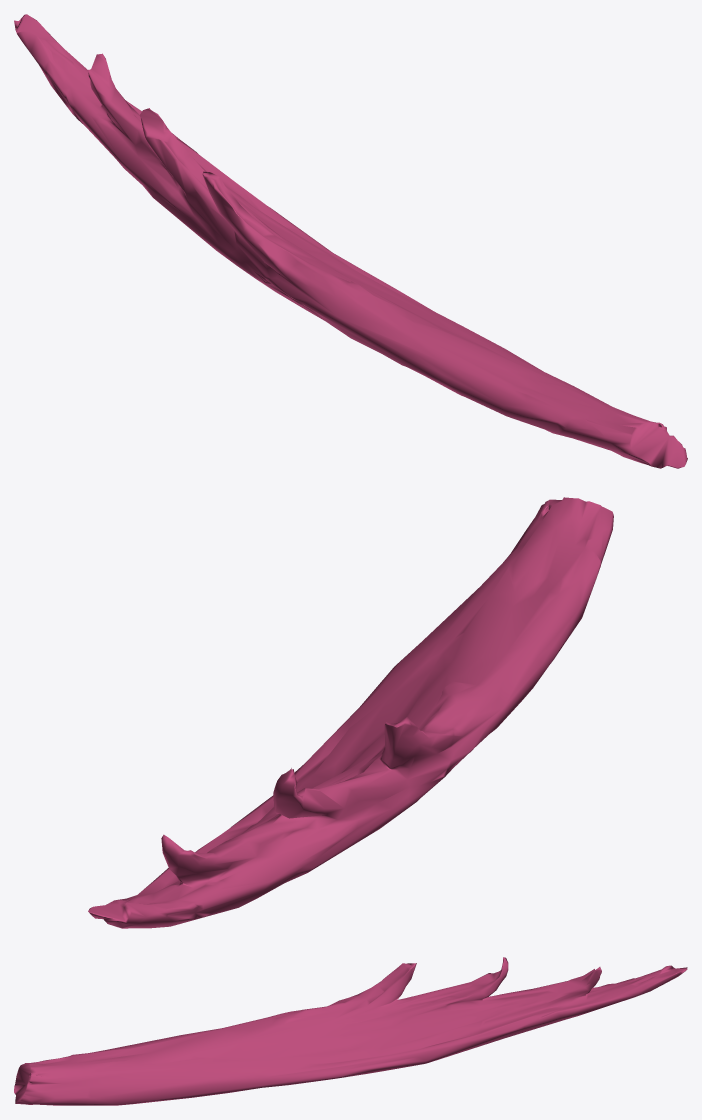
3 renders of one model, top to bottom at view 1: azimuth 30°, elevation 25°; view 2: azimuth 150°, elevation 25°; view 3: azimuth 270°, elevation 25°, orthographic. The views are drawn at different scales.
Visible parts, largest first — view 1: 右侧头长肌; view 2: 右侧头长肌; view 3: 右侧头长肌.
Part boxes in pixels (x1,y1,x2,y2): 右侧头长肌: (14, 14, 687, 468); 右侧头长肌: (88, 497, 613, 928); 右侧头长肌: (14, 957, 687, 1105).
Bounding box in the file's own units: 0.0358 × 0.026 × 0.1622.
